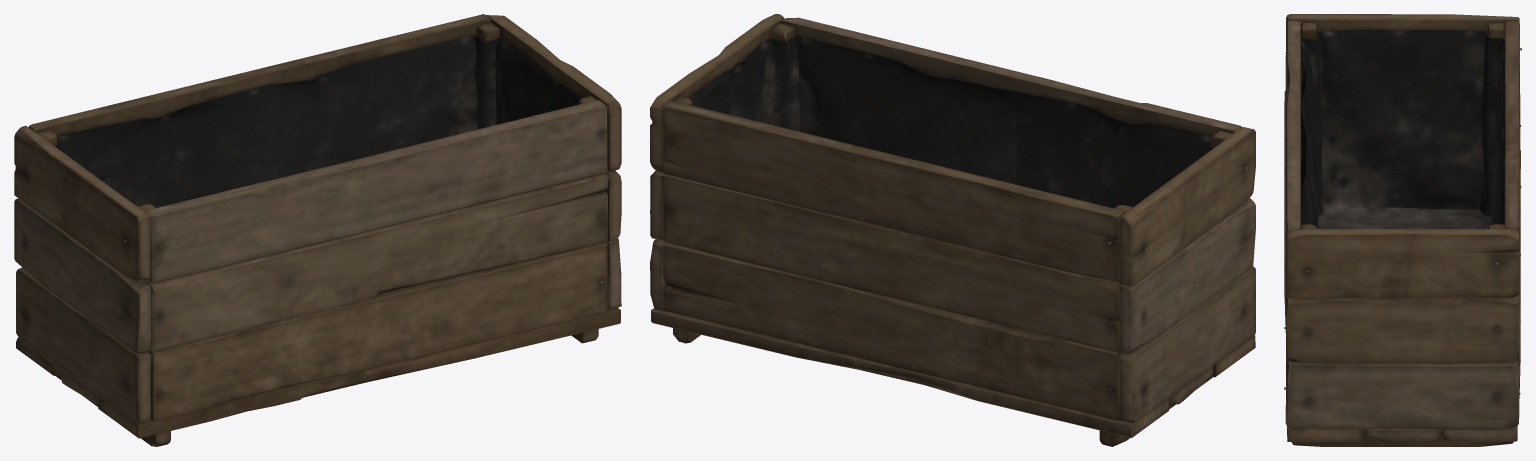
File: planter_box.glb
3 views of the same model, side by side, from view 1: azimuth 30°, elevation 25°; view 2: azimuth 150°, elevation 25°; view 3: azimuth 270°, elevation 25° (orthographic). The views are drawn at different scales.
Visible parts, largest first — view 1: mesh; view 2: mesh; view 3: mesh.
Part boxes in pixels (bbox=[...]): mesh: bbox=[14, 14, 621, 446]; mesh: bbox=[650, 14, 1255, 446]; mesh: bbox=[1284, 14, 1521, 446].
Bounding box in the file's own units: 0.9111 × 0.4249 × 0.4119.
Materials: 1 (1 with a texture image).
